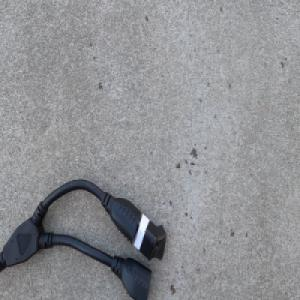Wire: (0, 175, 167, 300)
